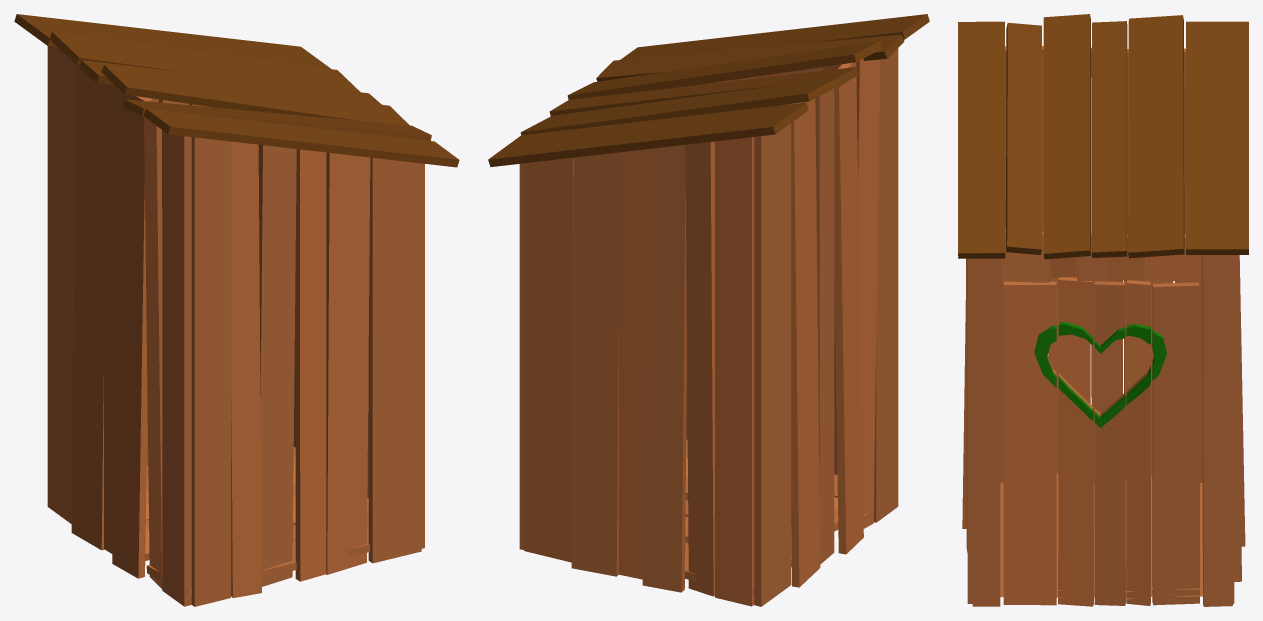
File: Scheisshaus.fbx
3 views of the same model, side by side, from view 1: azimuth 30°, elevation 25°; view 2: azimuth 150°, elevation 25°; view 3: azimuth 270°, elevation 25° (orthographic). The views are drawn at different scales.
Visible parts, largest first — view 1: Outhouse; view 2: Outhouse; view 3: Outhouse, OuthouseDoor, OuthouseDoorPlayerColour.
Part boxes in pixels (x1,y1,x2,y2): Outhouse: [14, 14, 459, 606]; Outhouse: [488, 14, 929, 606]; Outhouse: [958, 14, 1248, 606]; OuthouseDoor: [1003, 277, 1199, 606]; OuthouseDoorPlayerColour: [1034, 322, 1166, 427].
Size of the model in its own units: 807 by 1323 by 734.
